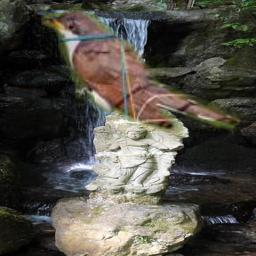Cuckoo: (41, 3, 240, 142)
